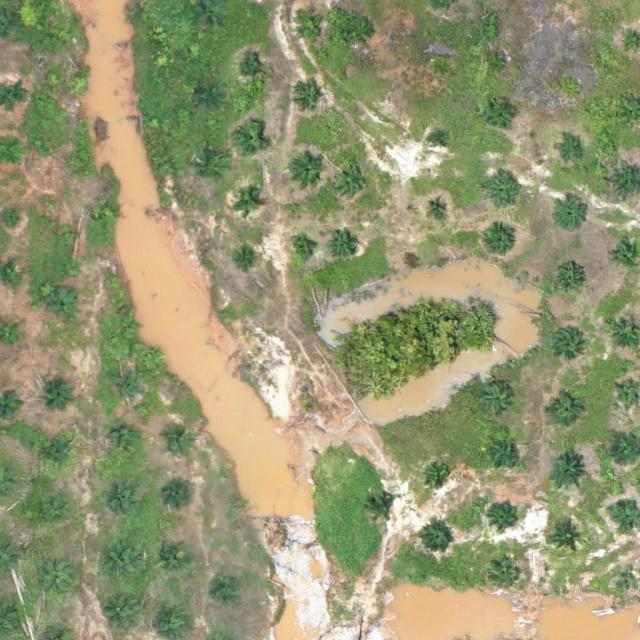Small: (30, 497, 70, 537), (102, 482, 142, 522), (37, 563, 76, 603), (156, 537, 195, 577), (102, 593, 141, 633), (548, 455, 588, 494), (330, 163, 370, 202), (101, 543, 140, 582), (481, 223, 520, 262), (483, 172, 522, 211), (289, 152, 328, 191), (350, 16, 381, 48), (549, 396, 580, 428), (556, 199, 587, 231), (483, 386, 514, 418), (490, 438, 521, 470), (490, 499, 521, 531), (552, 524, 583, 556), (554, 262, 585, 294), (487, 97, 518, 129), (295, 12, 326, 44), (166, 482, 197, 513), (45, 376, 76, 407), (112, 373, 143, 404), (49, 291, 80, 322), (110, 426, 141, 457), (163, 426, 194, 457), (552, 327, 583, 358), (421, 525, 452, 556), (215, 573, 246, 604), (491, 563, 522, 594), (423, 460, 454, 491), (366, 495, 397, 526), (43, 441, 74, 472), (238, 57, 269, 88), (236, 125, 267, 156), (292, 83, 323, 114), (330, 231, 361, 262), (198, 156, 229, 187), (557, 140, 581, 164), (117, 315, 141, 339), (235, 190, 259, 214), (236, 247, 260, 271), (290, 237, 314, 261), (57, 222, 81, 246), (63, 152, 87, 176), (67, 74, 91, 98), (616, 382, 639, 406), (428, 197, 451, 221), (97, 199, 120, 223), (430, 58, 454, 81), (199, 86, 222, 110), (488, 54, 511, 78), (625, 36, 640, 52), (431, 133, 447, 148), (566, 2, 582, 17)
